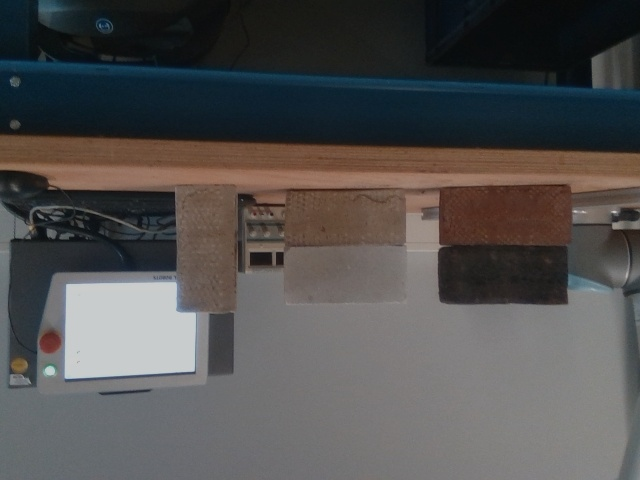brick: (175, 186, 235, 310), (439, 248, 566, 303), (443, 188, 570, 243), (282, 249, 408, 304), (285, 190, 402, 245)
